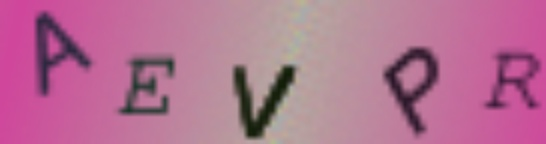A: (32, 10, 97, 98)
E: (114, 56, 181, 120)
P: (381, 42, 443, 136)
R: (483, 48, 544, 110)
V: (225, 59, 305, 140)
